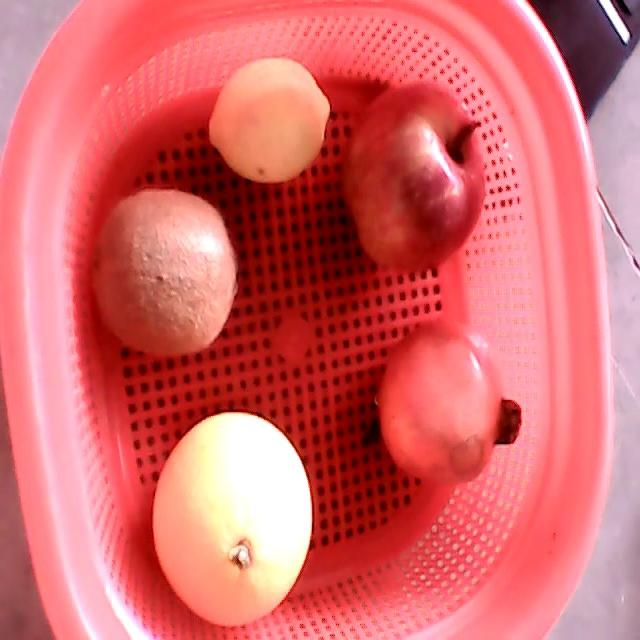apple: (341, 80, 487, 272)
kiwi: (86, 190, 236, 358)
lemon: (208, 54, 332, 182)
orange: (151, 413, 313, 628)
pomegranate: (376, 318, 522, 486)
